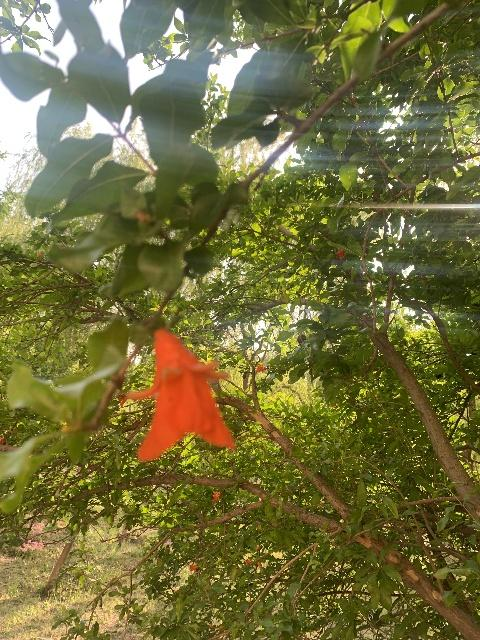bud: (257, 561, 263, 568)
flower: (127, 330, 239, 466), (117, 391, 127, 406), (212, 491, 222, 504), (335, 249, 345, 259), (256, 364, 266, 373), (189, 563, 196, 571)
